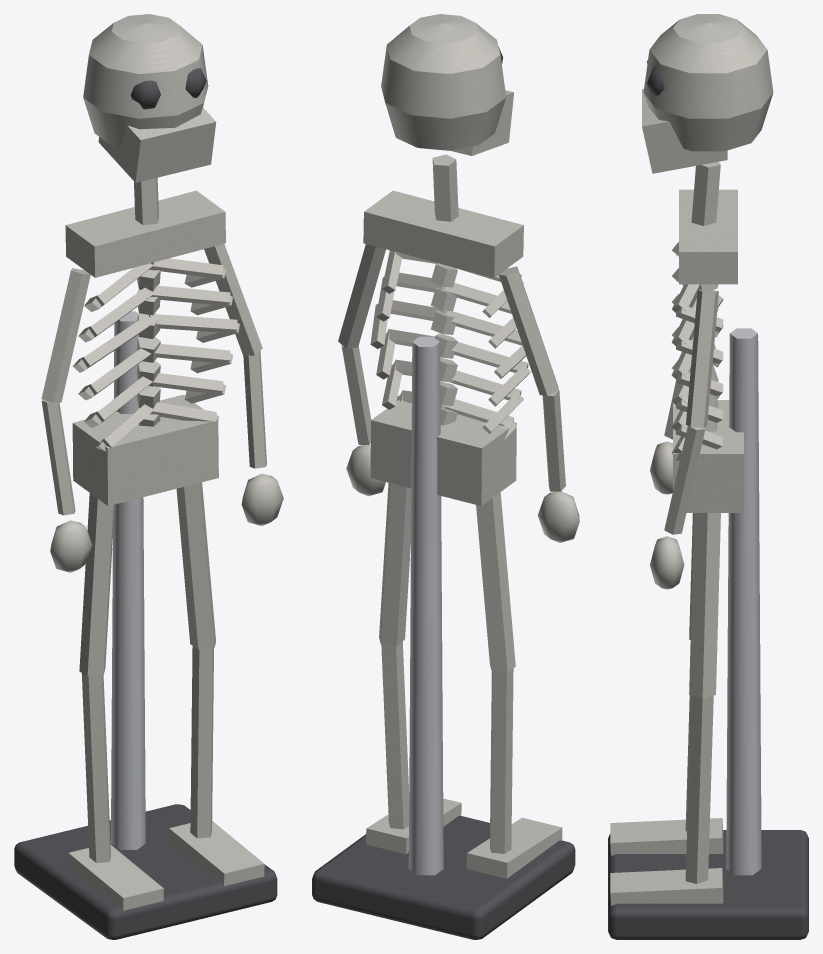
The model's file is skeleton-yard-prop.glb.
3 renders of one model, left to right at view 1: azimuth 30°, elevation 25°; view 2: azimuth 150°, elevation 25°; view 3: azimuth 270°, elevation 25°, orthographic.
Visible parts, largest first — view 1: skeleton-yard-prop; view 2: skeleton-yard-prop; view 3: skeleton-yard-prop.
Part boxes in pixels (x1,y1,x2,y2): skeleton-yard-prop: (14,14,283,939); skeleton-yard-prop: (312,14,579,939); skeleton-yard-prop: (608,14,808,939).
Bounding box in the file's own units: 0.4561 × 1.64 × 0.3399.
Materials: 3 (1 with a texture image).
